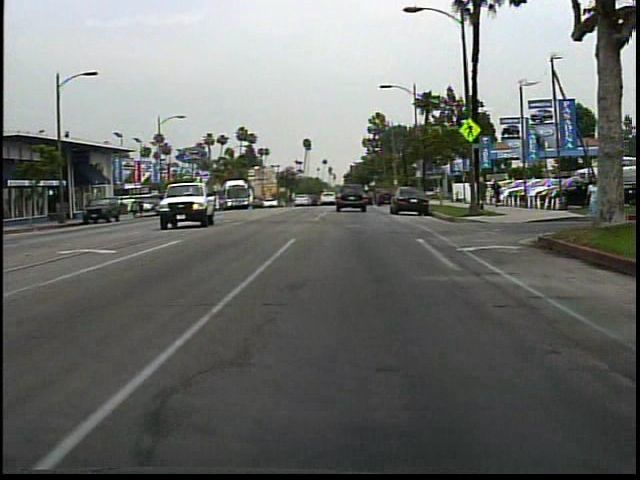person: (581, 172, 606, 229)
